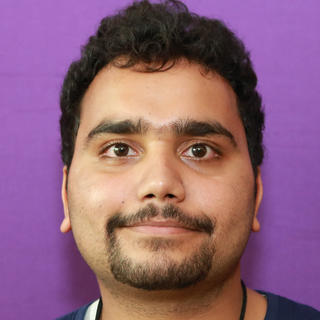eye: (171, 136, 227, 164), (92, 139, 147, 164)
